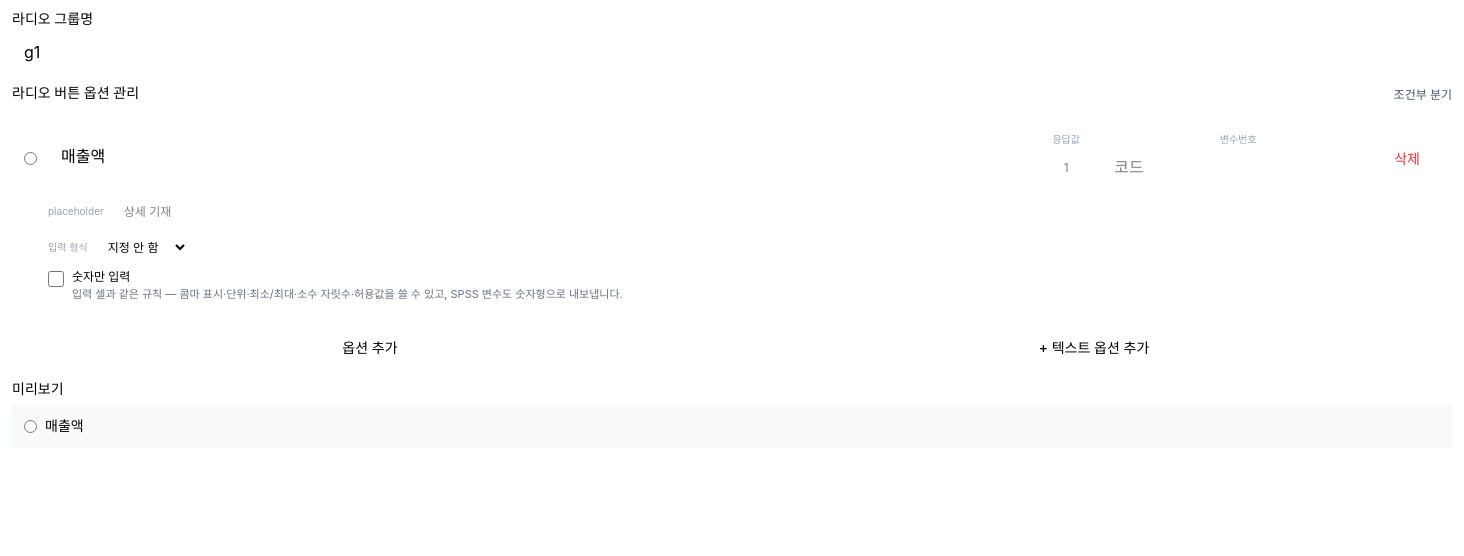
Scenario: 옵션 텍스트 설정 편집기 — 숫자만 입력 › 체크하면 숫자 형식 설정(단위 등)이 함께 나타난다
Click the checkbox labelled "숫자만 입력" at (56, 279), box [48,271,64,287]
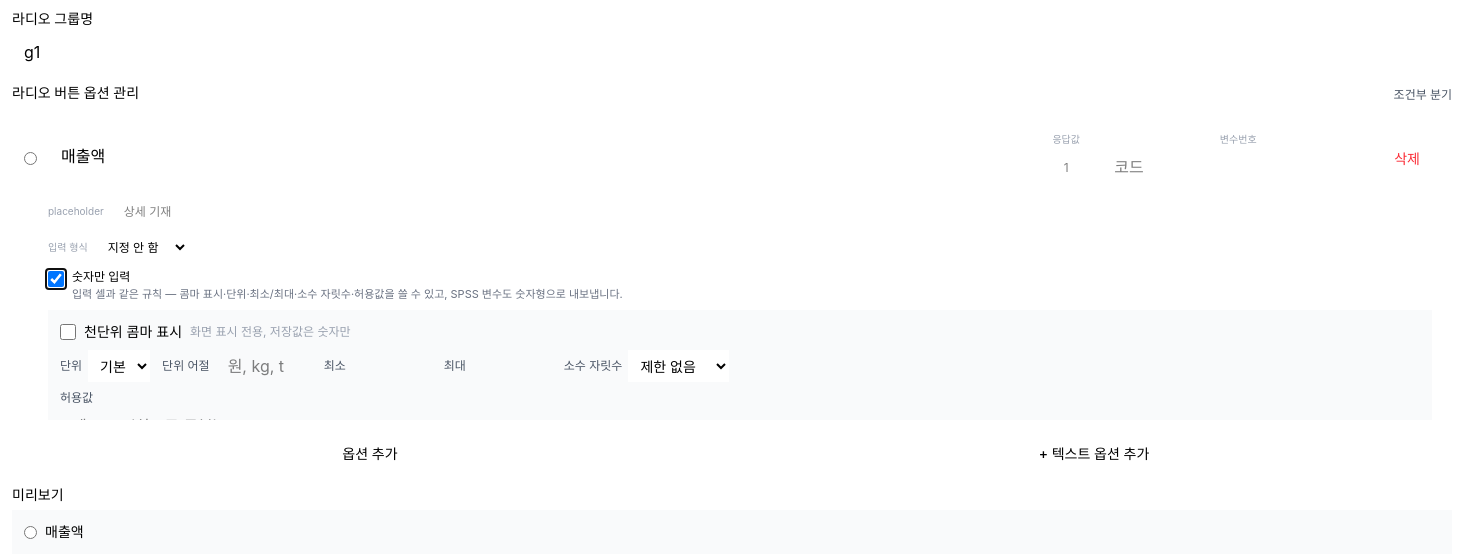
Expected: the dropdown labelled "단위" is shown, [88,350,150,382]
